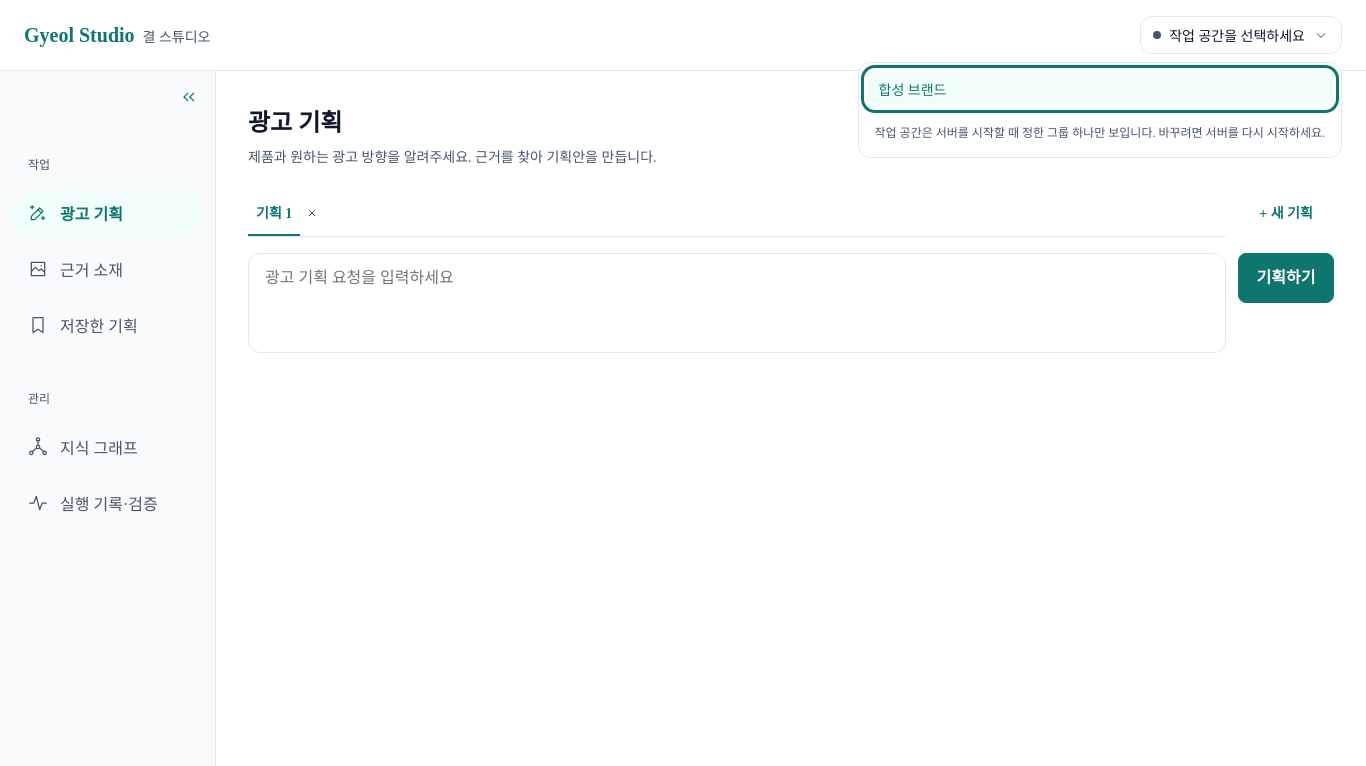
Test case: has no return action when opening history directly from its list
Earlier steps of the test are not shown.
Click the option "합성 브랜드" at {"x": 912, "y": 90}, box [866, 71, 1333, 107]
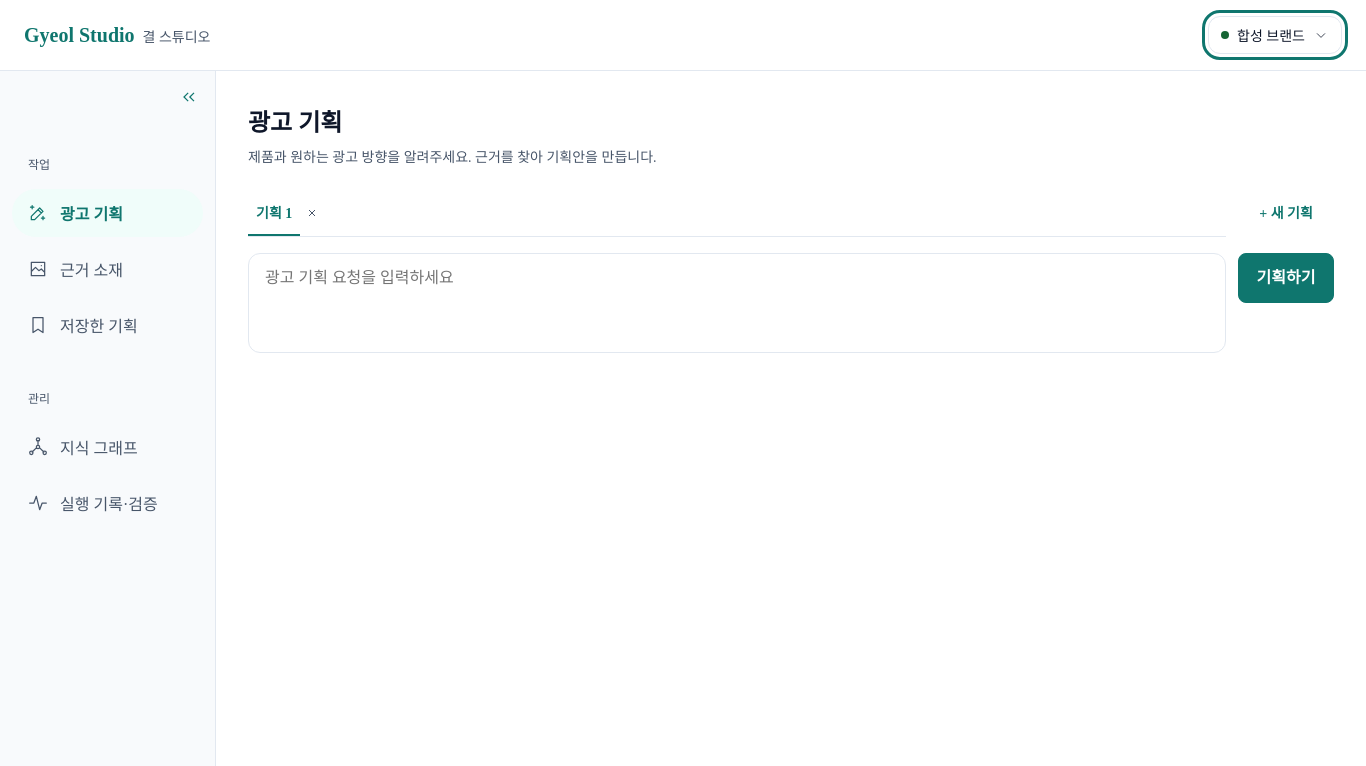
Click the button "+ 새 기획" at {"x": 1286, "y": 214}, box [1238, 194, 1334, 233]
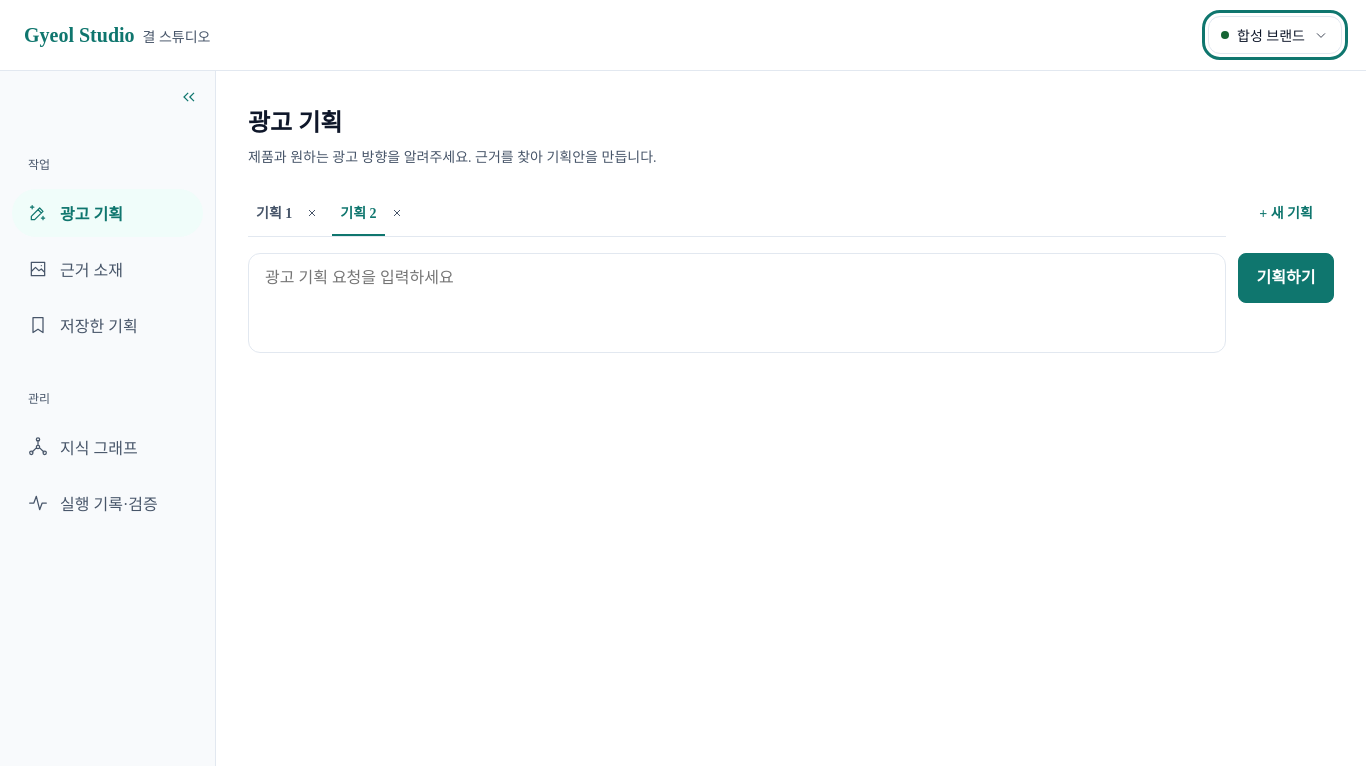
Type "합성 복귀 요청" into the text box labelled "요청" at {"x": 737, "y": 303}, box [248, 253, 1226, 353]
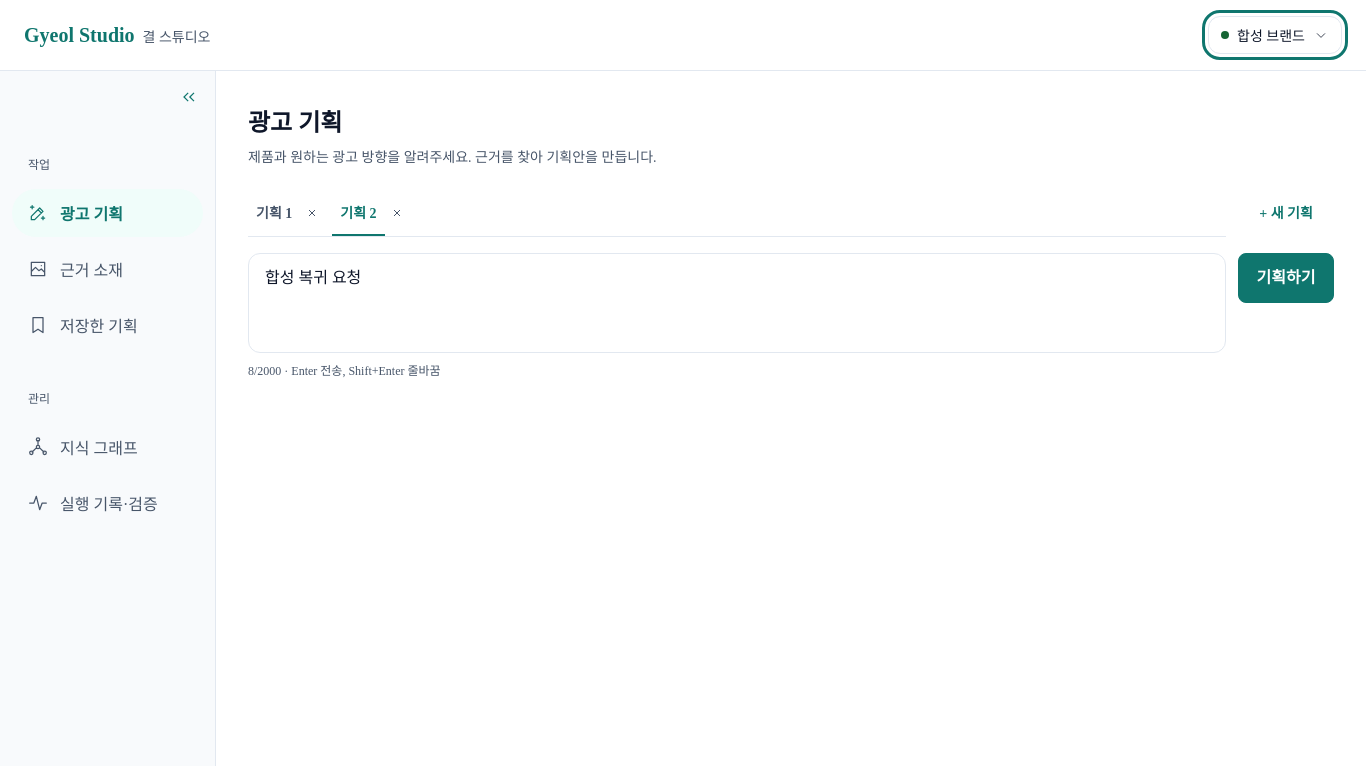
Click the button "기획하기" at {"x": 1286, "y": 278}, box [1238, 253, 1334, 303]
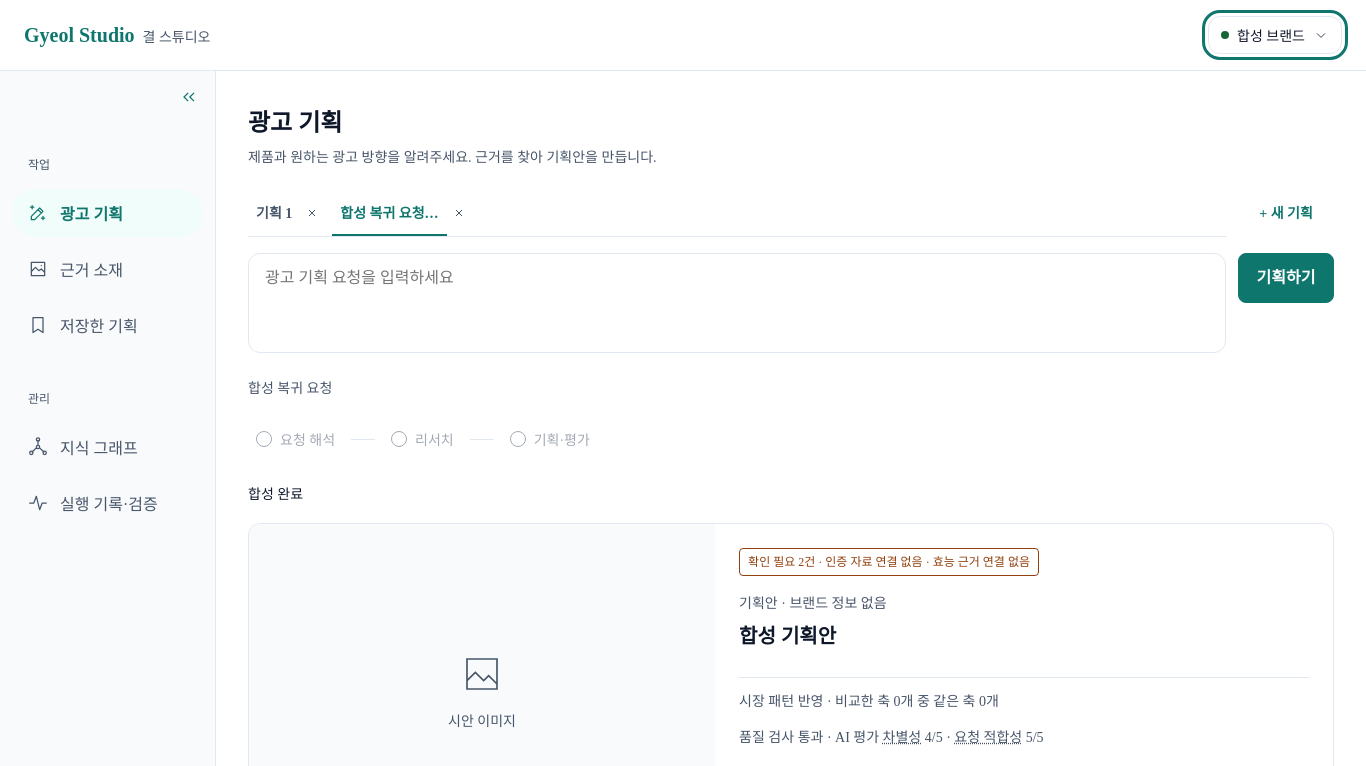
Check: the text "합성 완료" is shown, box [248, 487, 303, 502]
Click the button "실행 기록·검증" at {"x": 108, "y": 503}, box [12, 479, 203, 527]
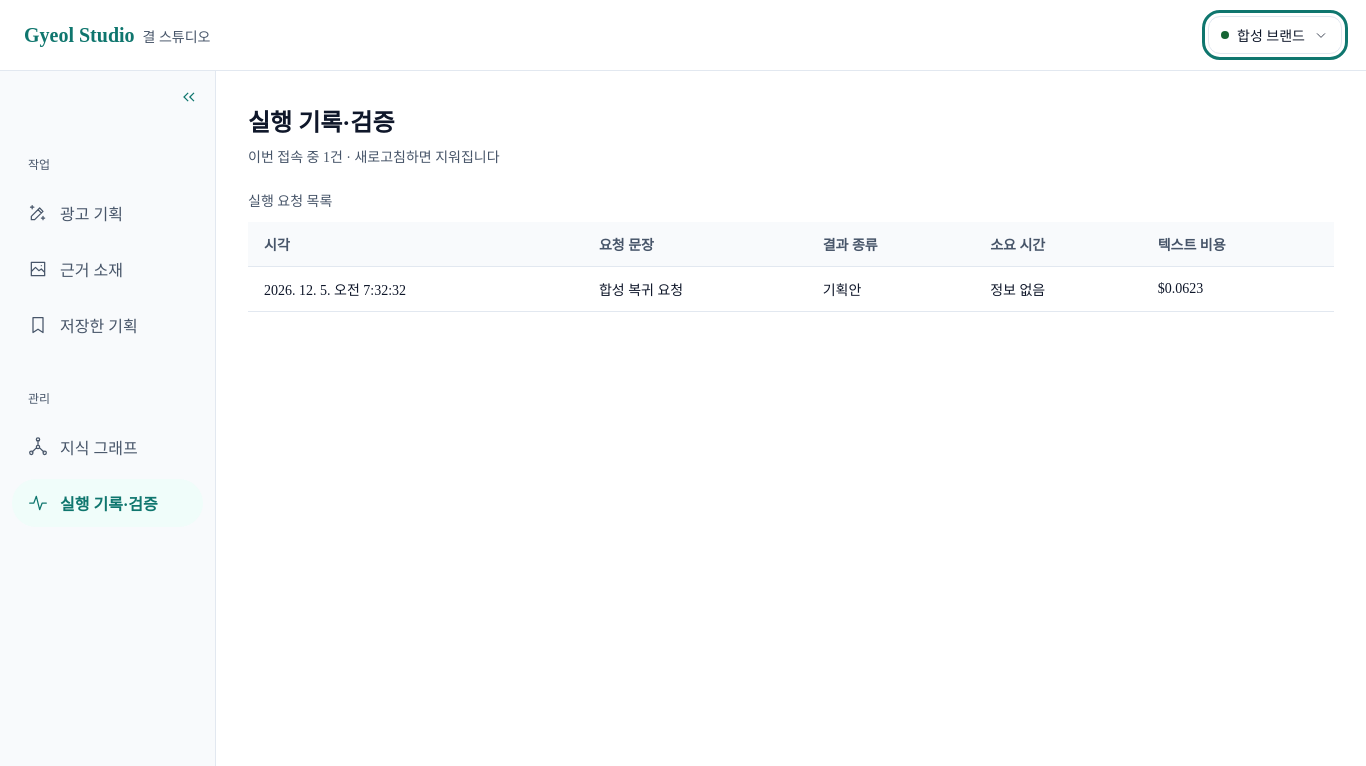
Click the 2nd row at {"x": 791, "y": 289}, box [248, 266, 1334, 312]
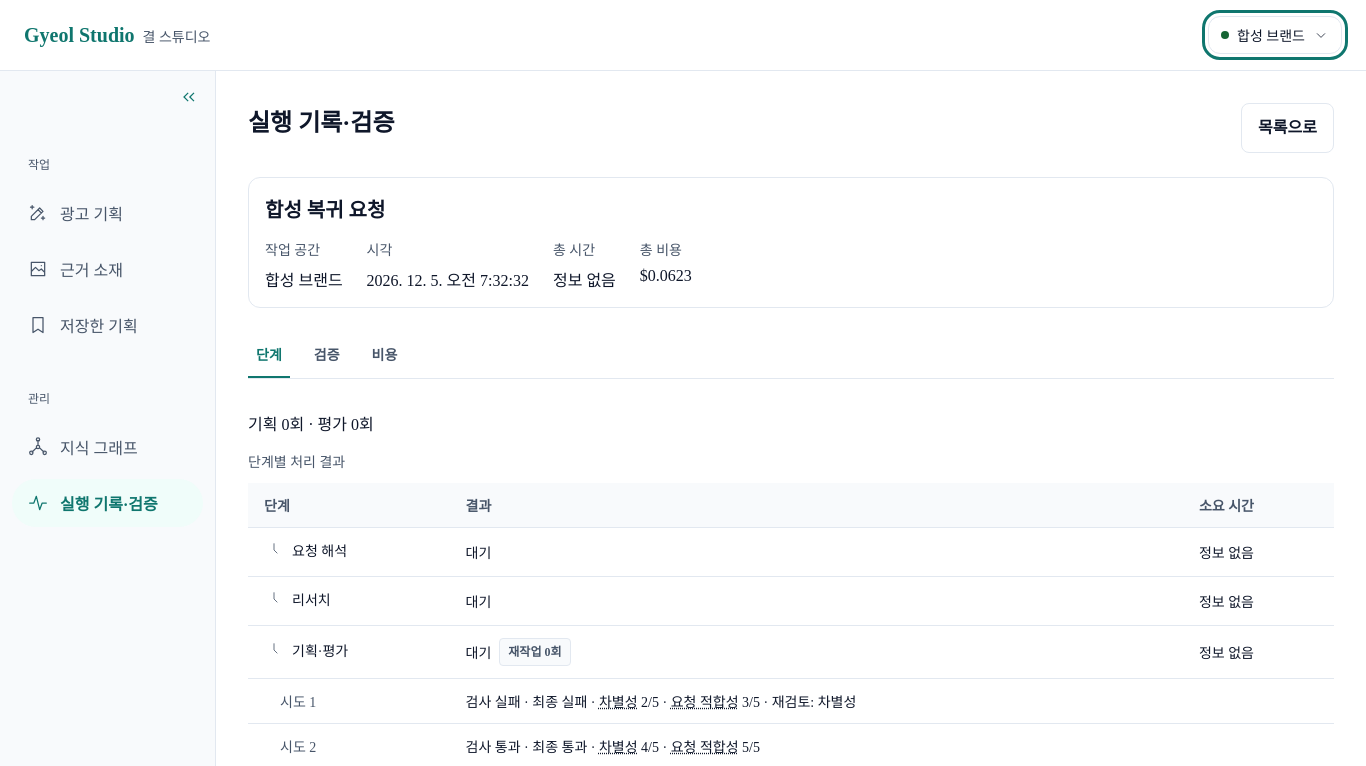
Check: the button "목록으로" is shown, box [1241, 103, 1334, 153]
